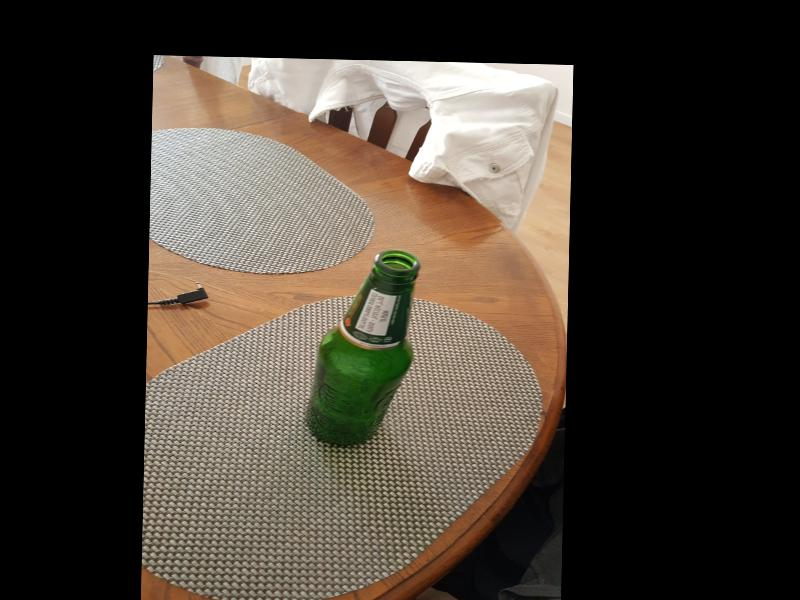Beer: (304, 250, 412, 447)
